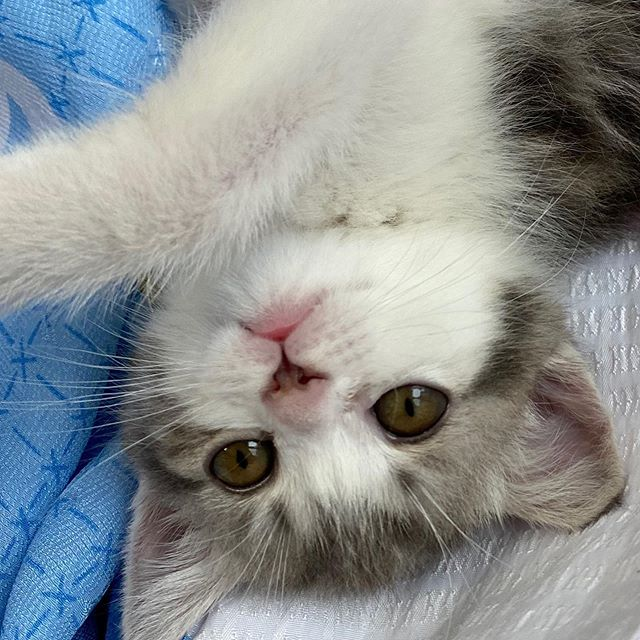cat: (99, 225, 640, 640)
